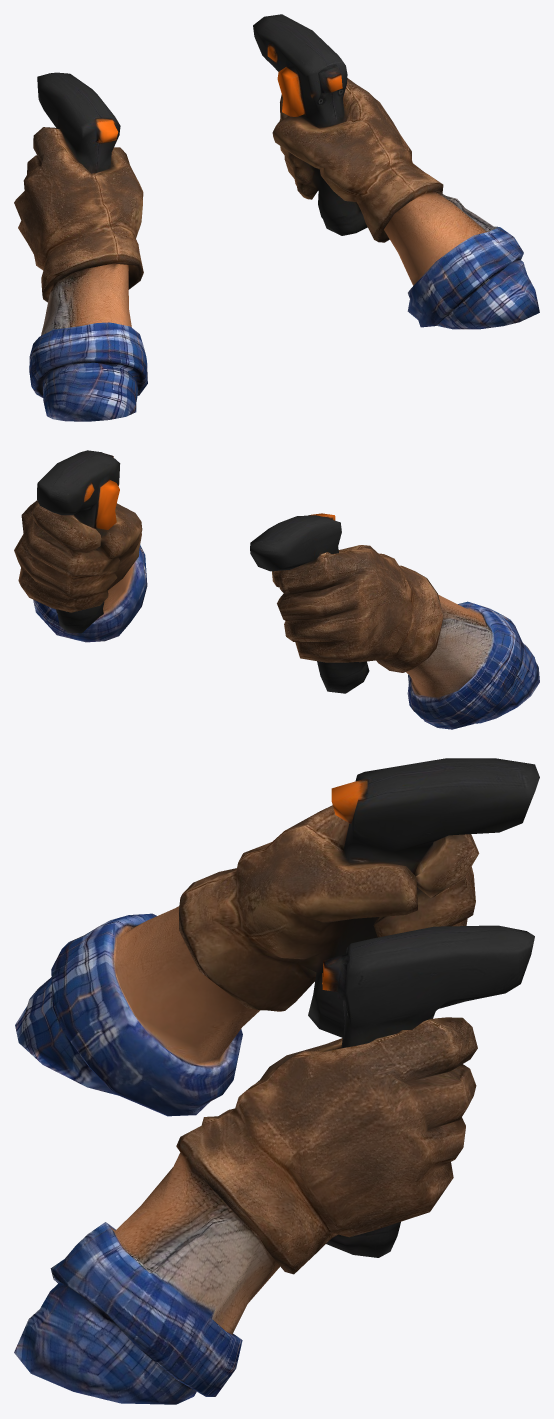
The model's file is eller.glb.
3 renders of one model, top to bottom at view 1: azimuth 30°, elevation 25°; view 2: azimuth 150°, elevation 25°; view 3: azimuth 270°, elevation 25°, orthographic. The views are drawn at different scales.
Parts seen in each view (by area): view 1: tripo_node_f7a0215e-75c5-4eb7-ae17-2d2c4e03cd8a; view 2: tripo_node_f7a0215e-75c5-4eb7-ae17-2d2c4e03cd8a; view 3: tripo_node_f7a0215e-75c5-4eb7-ae17-2d2c4e03cd8a.
Part boxes in pixels (<box>): tripo_node_f7a0215e-75c5-4eb7-ae17-2d2c4e03cd8a: <box>14,14,539,421</box>; tripo_node_f7a0215e-75c5-4eb7-ae17-2d2c4e03cd8a: <box>14,450,539,729</box>; tripo_node_f7a0215e-75c5-4eb7-ae17-2d2c4e03cd8a: <box>14,758,539,1404</box>.
Bounding box in the file's own units: 0.9792 × 0.4791 × 0.5707.
Materials: 1 (1 with a texture image).
